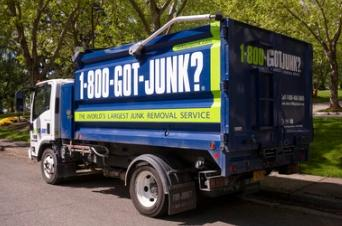vehicle: (15, 14, 313, 218)
